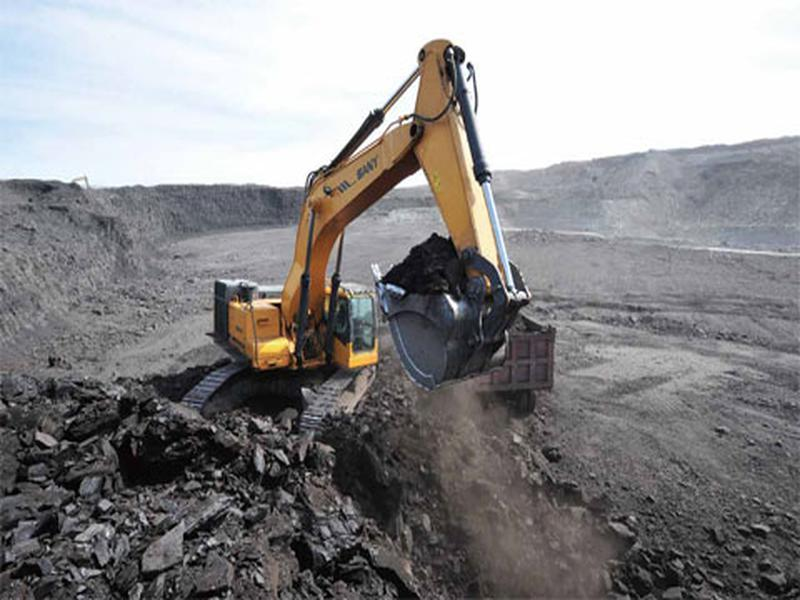shovel: (178, 33, 538, 436)
